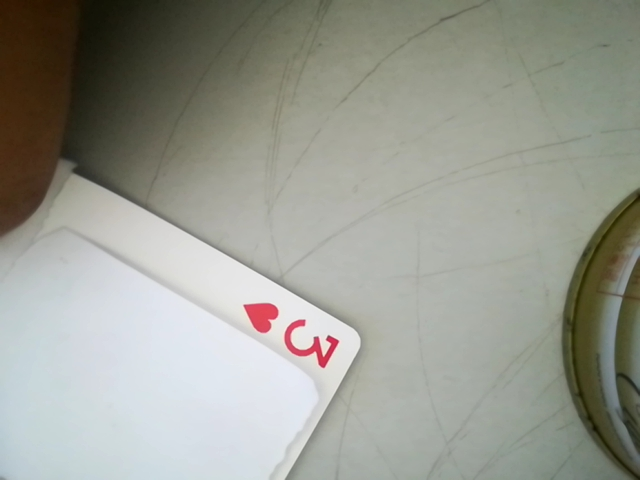hx 3: (238, 298, 354, 375)
